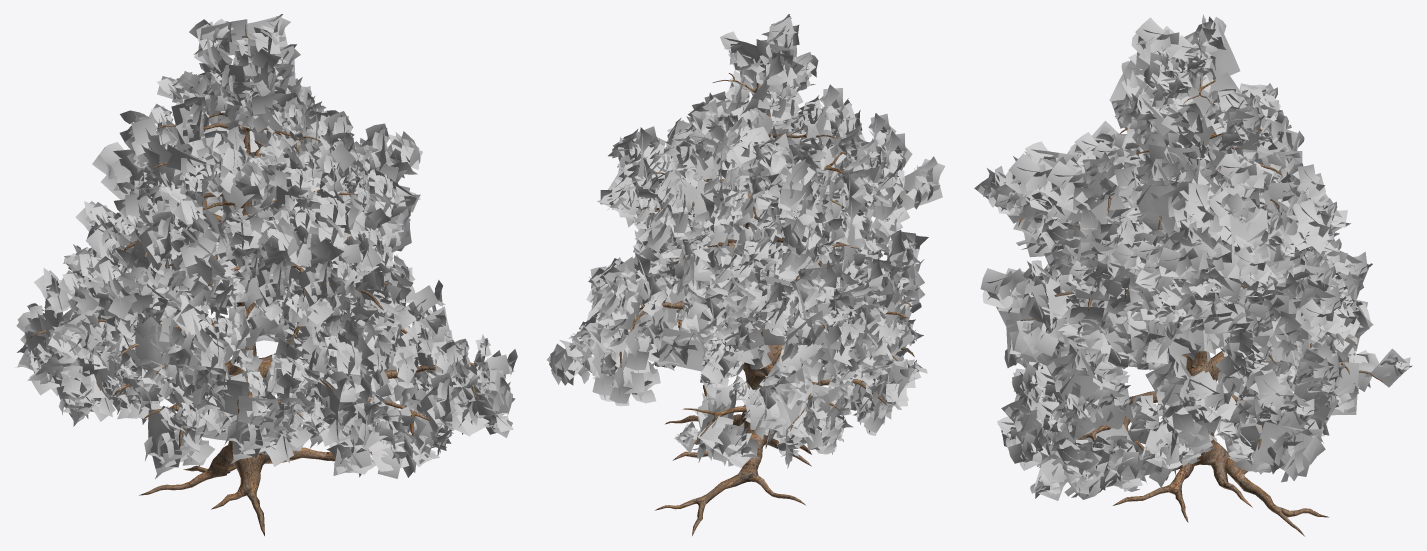
Rendered from Tree3.fbx.
3 renders of one model, left to right at view 1: azimuth 30°, elevation 25°; view 2: azimuth 150°, elevation 25°; view 3: azimuth 270°, elevation 25°, orthographic. The views are drawn at different scales.
Parts seen in each view (by area): view 1: tree3, tree3|branch3-2|Dupli|539, tree3|branch3-2|Dupli|409, tree3|branch3-2|Dupli|23, tree3|branch3-2|Dupli|31, tree3|branch3-2|Dupli|515, tree3|branch3-2|Dupli|103, tree3|branch3-2|Dupli|529, tree3|branch3-2|Dupli|683, tree3|branch3-2|Dupli|519, tree3|branch3-1|Dupli|196, tree3|branch3-2|Dupli|123 (+76 smaller); view 2: tree3, tree3|branch3-1|Dupli|372, tree3|branch3-1|Dupli|176, tree3|branch3-1|Dupli|374, tree3|branch3-2|Dupli|393, tree3|branch3-2|Dupli|619, tree3|branch3-2|Dupli|303, tree3|branch3-1|Dupli|670, tree3|branch3-2|Dupli|227, tree3|branch3-1|Dupli|392, tree3|branch3-2|Dupli|321, tree3|branch3-2|Dupli|31 (+82 smaller); view 3: tree3, tree3|branch3-2|Dupli|227, tree3|branch3-2|Dupli|649, tree3|branch3-2|Dupli|23, tree3|branch3-2|Dupli|583, tree3|branch3-2|Dupli|683, tree3|branch3-1|Dupli|46, tree3|branch3-2|Dupli|469, tree3|branch3-2|Dupli|685, tree3|branch3-2|Dupli|659, tree3|branch3-2|Dupli|457, tree3|branch3-2|Dupli|515 (+102 smaller).
Boxes of the visible parts, <box> form: tree3: <box>29,23,477,535</box>; tree3|branch3-2|Dupli|539: <box>134,316,184,367</box>; tree3|branch3-2|Dupli|409: <box>144,409,190,478</box>; tree3|branch3-2|Dupli|23: <box>315,333,362,403</box>; tree3|branch3-2|Dupli|31: <box>92,142,150,199</box>; tree3|branch3-2|Dupli|515: <box>296,215,344,266</box>; tree3|branch3-2|Dupli|103: <box>220,161,268,214</box>; tree3|branch3-2|Dupli|529: <box>249,217,301,269</box>; tree3|branch3-2|Dupli|683: <box>243,27,281,89</box>; tree3|branch3-2|Dupli|519: <box>167,348,210,406</box>; tree3|branch3-1|Dupli|196: <box>139,211,175,269</box>; tree3|branch3-2|Dupli|123: <box>224,415,278,463</box>; tree3: <box>590,41,914,535</box>; tree3|branch3-1|Dupli|372: <box>651,327,710,371</box>; tree3|branch3-1|Dupli|176: <box>899,156,945,210</box>; tree3|branch3-1|Dupli|374: <box>779,310,826,366</box>; tree3|branch3-2|Dupli|393: <box>745,389,805,439</box>; tree3|branch3-2|Dupli|619: <box>777,156,818,212</box>; tree3|branch3-2|Dupli|303: <box>698,416,751,454</box>; tree3|branch3-1|Dupli|670: <box>815,84,849,146</box>; tree3|branch3-2|Dupli|227: <box>547,339,590,385</box>; tree3|branch3-1|Dupli|392: <box>771,367,808,425</box>; tree3|branch3-2|Dupli|321: <box>625,314,656,372</box>; tree3|branch3-2|Dupli|31: <box>780,196,817,255</box>; tree3: <box>1018,35,1382,536</box>; tree3|branch3-2|Dupli|227: <box>1252,421,1325,482</box>; tree3|branch3-2|Dupli|649: <box>1150,181,1214,235</box>; tree3|branch3-2|Dupli|23: <box>980,268,1037,328</box>; tree3|branch3-2|Dupli|583: <box>1280,199,1330,264</box>; tree3|branch3-2|Dupli|683: <box>1131,17,1186,75</box>; tree3|branch3-1|Dupli|46: <box>1045,344,1101,400</box>; tree3|branch3-2|Dupli|469: <box>1104,310,1148,367</box>; tree3|branch3-2|Dupli|685: <box>1160,87,1213,140</box>; tree3|branch3-2|Dupli|659: <box>1213,153,1267,208</box>; tree3|branch3-2|Dupli|457: <box>1158,244,1213,287</box>; tree3|branch3-2|Dupli|515: <box>1005,153,1052,205</box>.
Bounding box in the file's own units: 1831 × 2268 × 1829.
